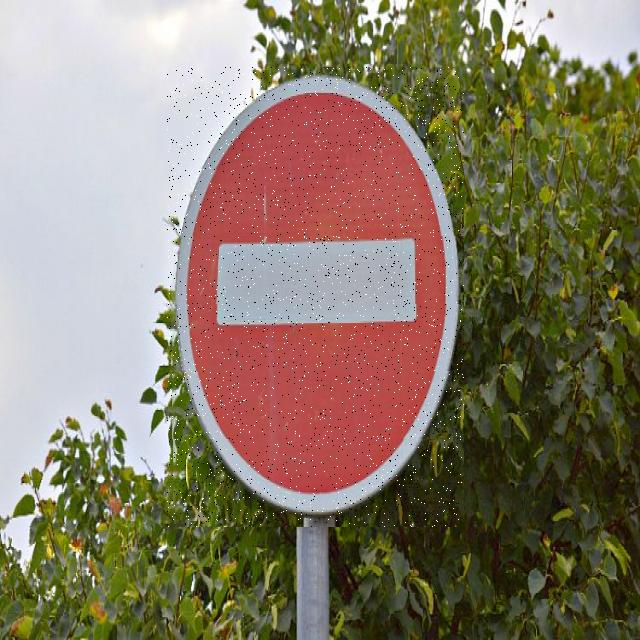no entry: (167, 67, 464, 527)
